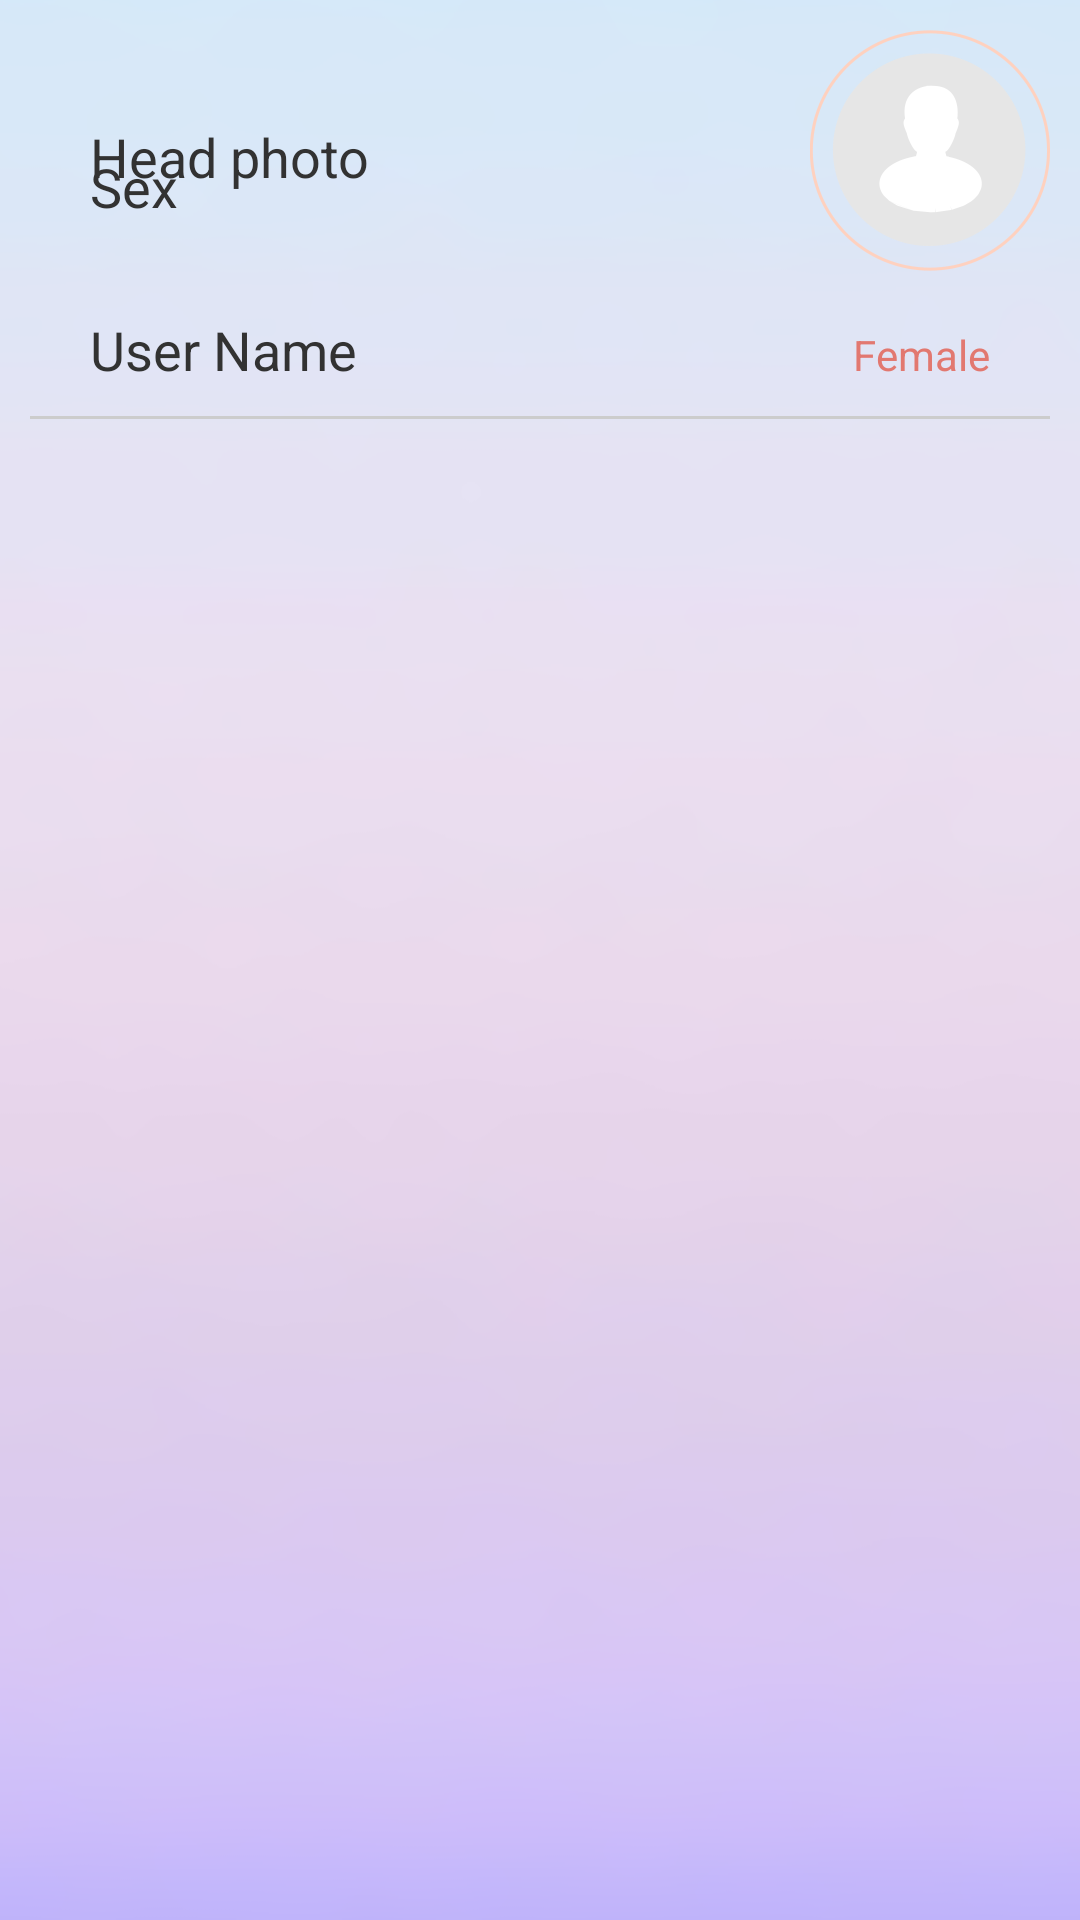

Named icons in this screenshot (1080w x 1920h) and their centers, (x=x, y=y):
head: (x=930, y=150)
